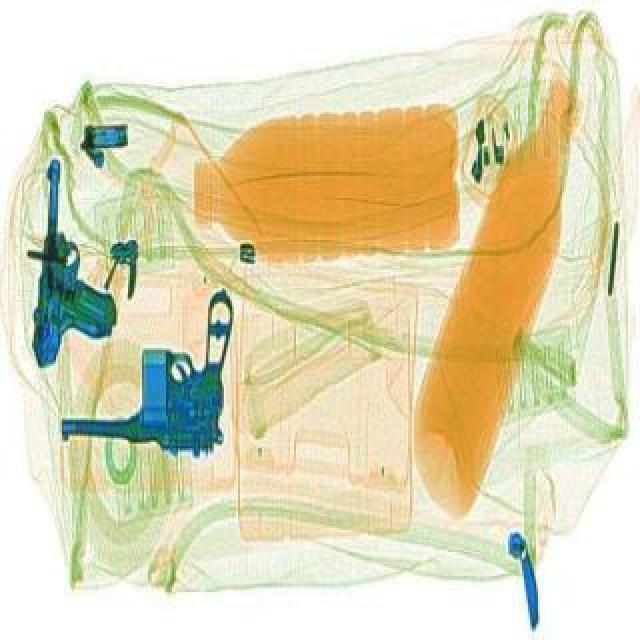gun: (56, 288, 236, 464), (30, 160, 130, 376)
